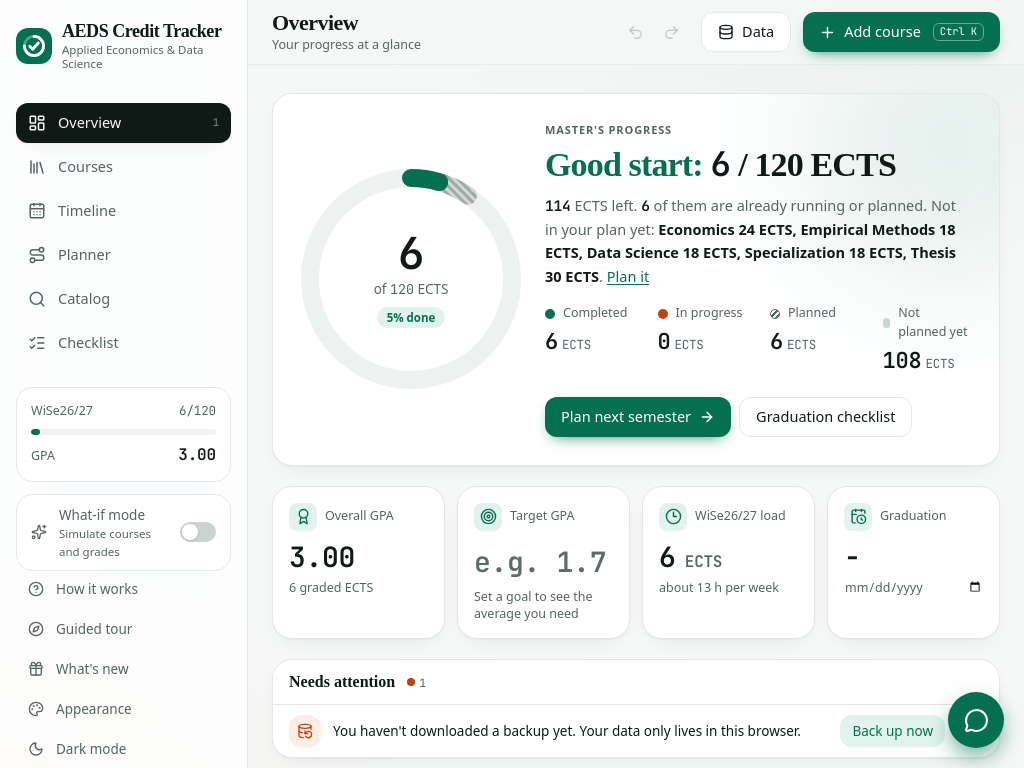
Test: AEDS Assistant sources › lists the answer's sources with pages
The image size is (1024, 768).
Click the button named "Open AEDS AI Assistant chat" at (976, 720), box [948, 692, 1004, 748]
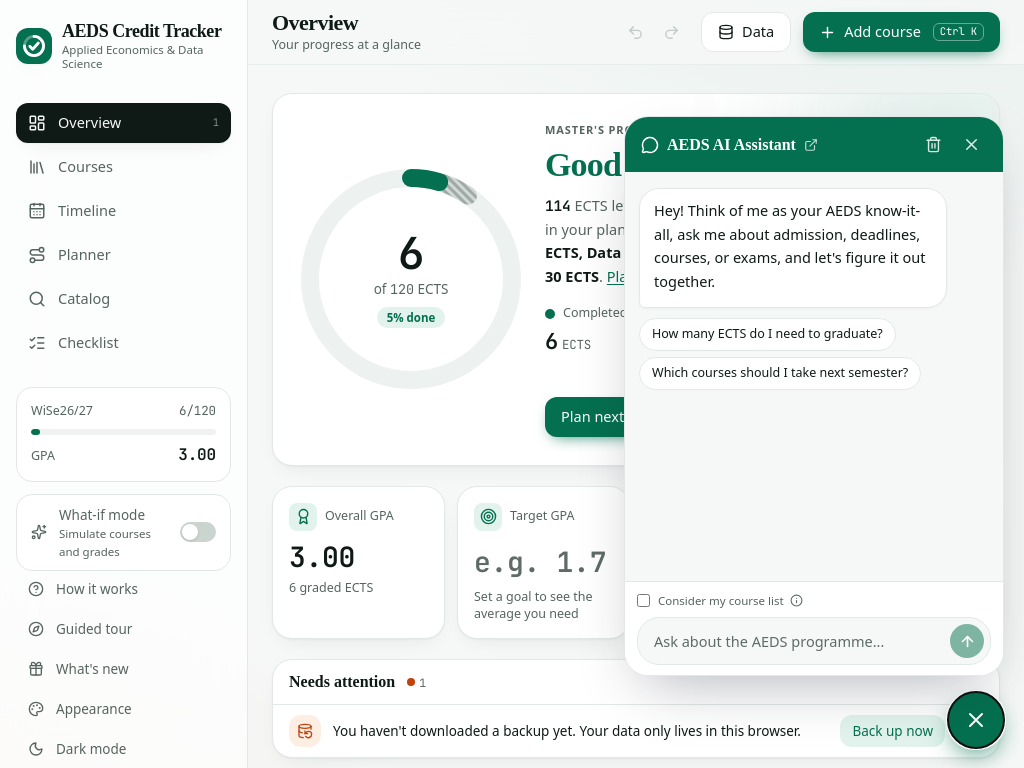
Type "Retakes?" into the text box with placeholder "Ask about the AEDS programme..." at (799, 642), box [654, 626, 944, 658]
Then press Enter
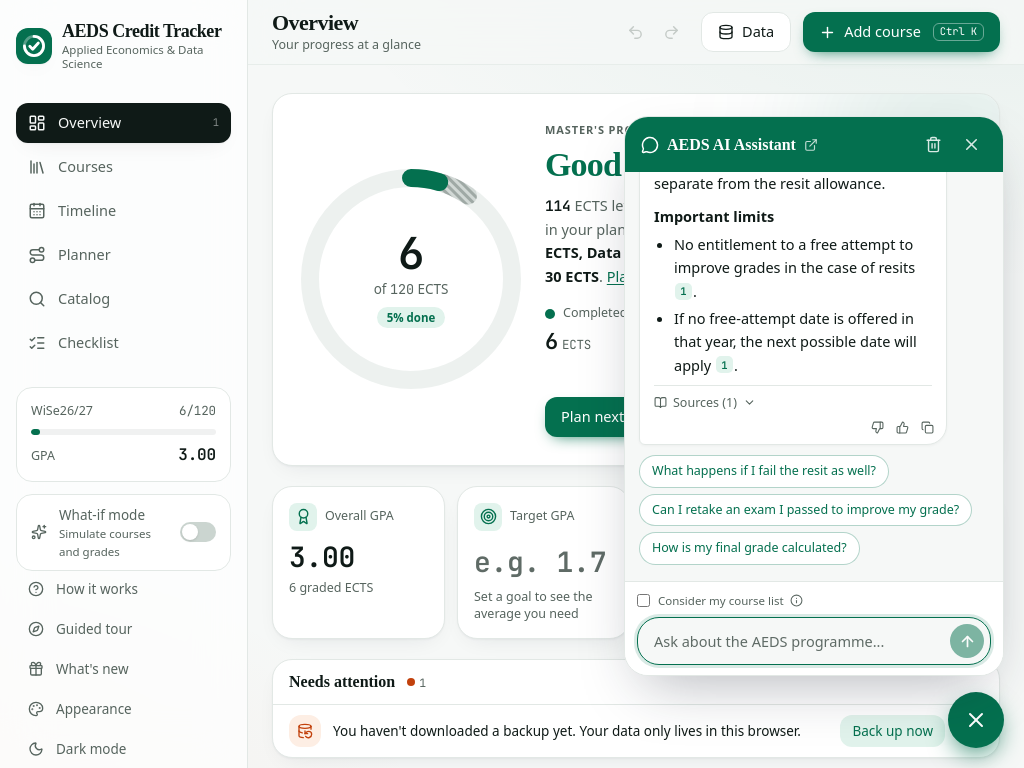
Click the button "Sources (1)" at (705, 403), box [654, 393, 756, 413]
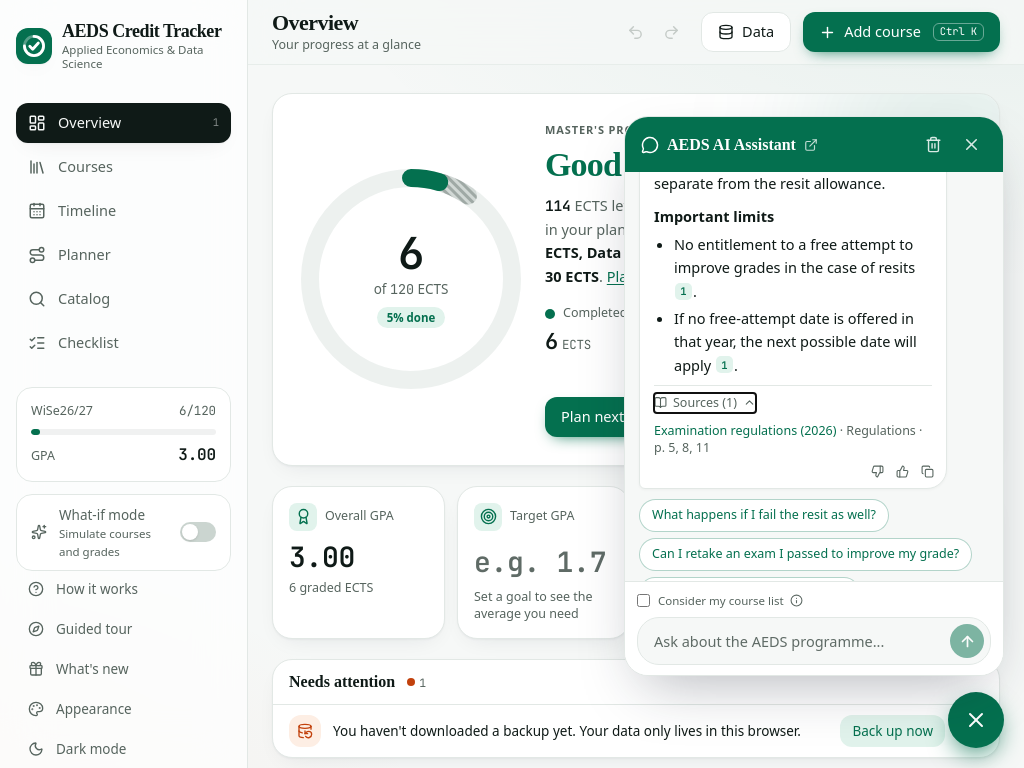
Now the button "Sources (1)" is expanded, box [654, 393, 756, 413]
Now the text "· Regulations · p. 5, 8, 11" is shown, box [654, 422, 922, 456]
Now the link "Examination regulations (2026)" is shown, box [654, 422, 836, 439]
